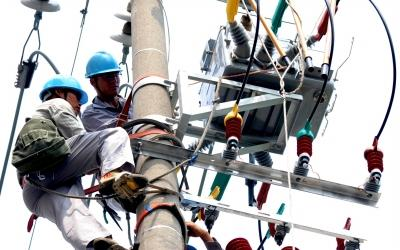boots: (99, 170, 148, 213), (85, 235, 131, 250)
gloves: (99, 170, 148, 213), (86, 235, 130, 250)
hard-hat: (39, 74, 88, 105), (85, 51, 123, 78)
person: (10, 74, 188, 250), (10, 74, 145, 250), (80, 51, 134, 133)
ppe-suit: (10, 96, 140, 250)
